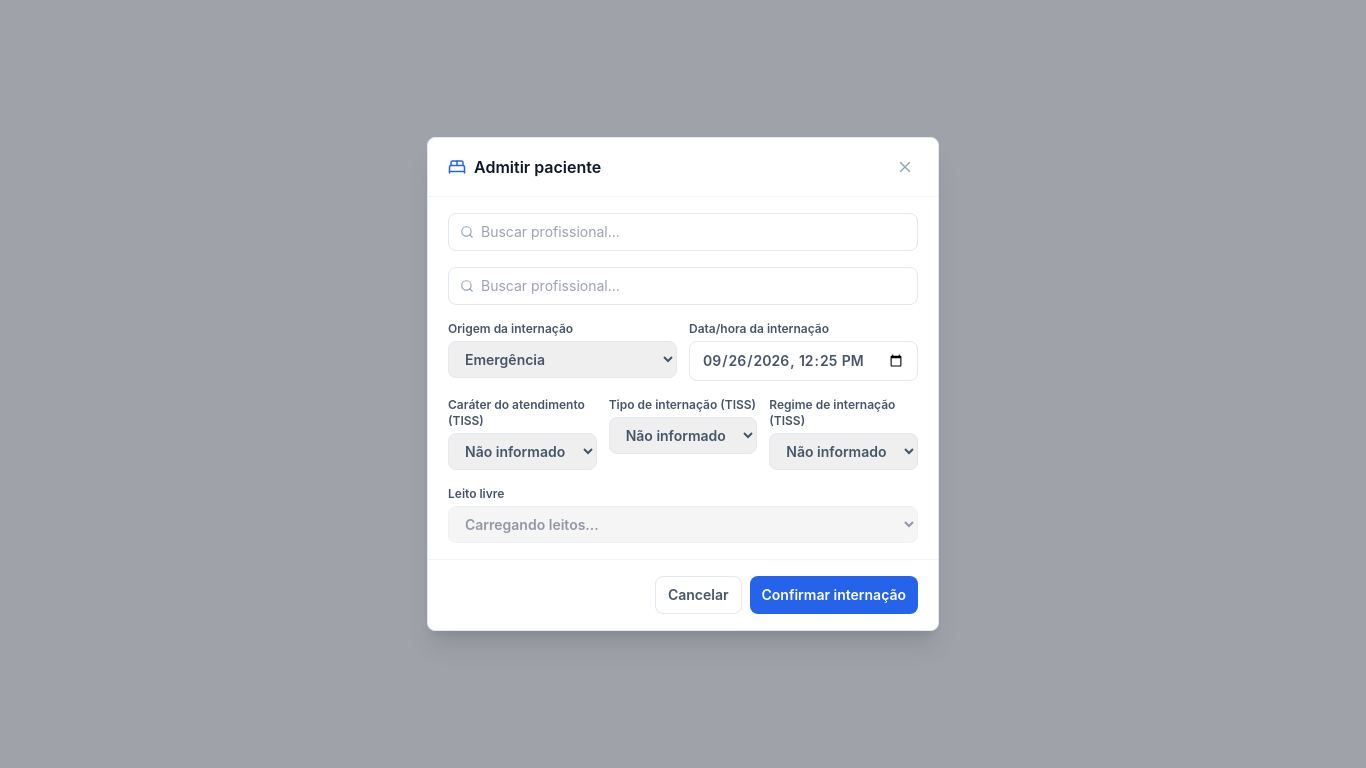
Test: AdmitPatientModal › surfaces a 409 as "leito já ocupado" and does not close
Type "dr" into the dropdown named "internador" at (683,232), box [448,213,918,251]
Wait 300 ms
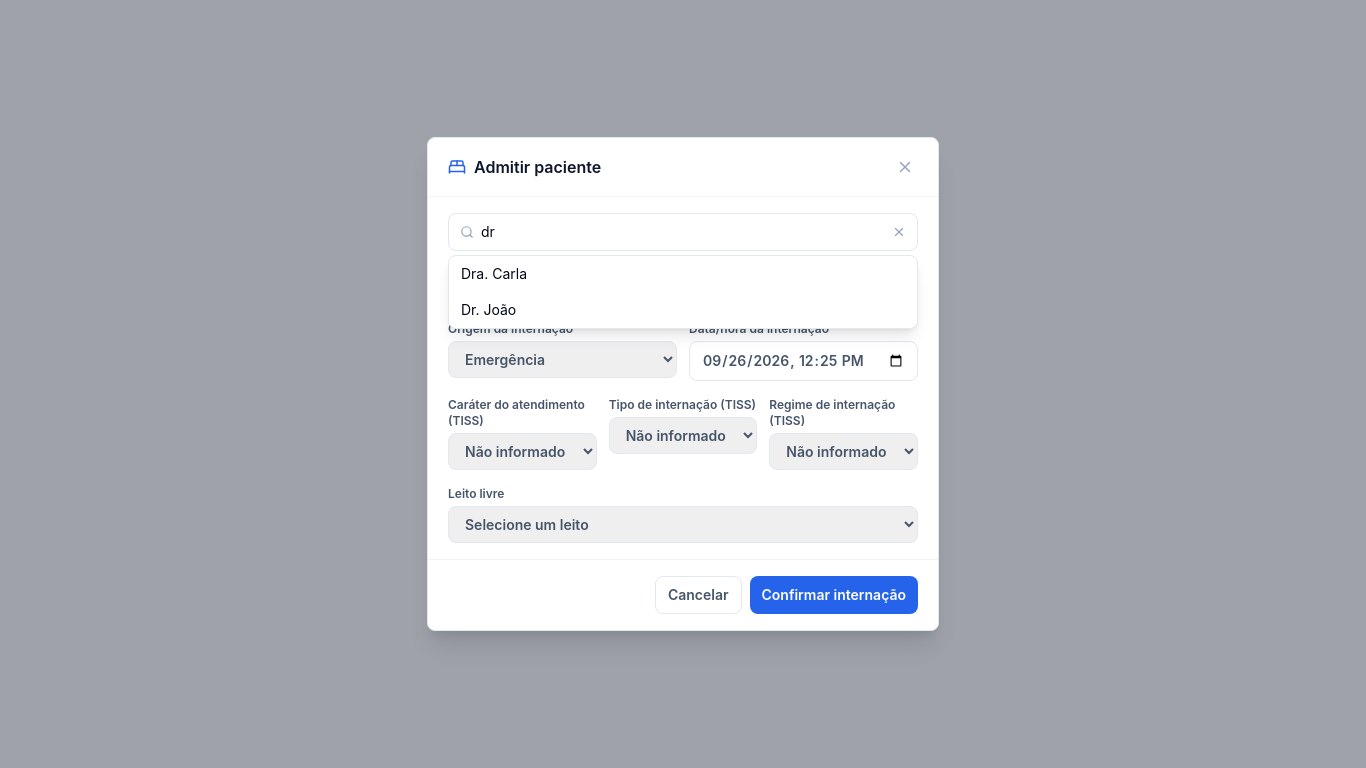
Click the option "Dra. Carla" at (494,274), box [449,256,917,292]
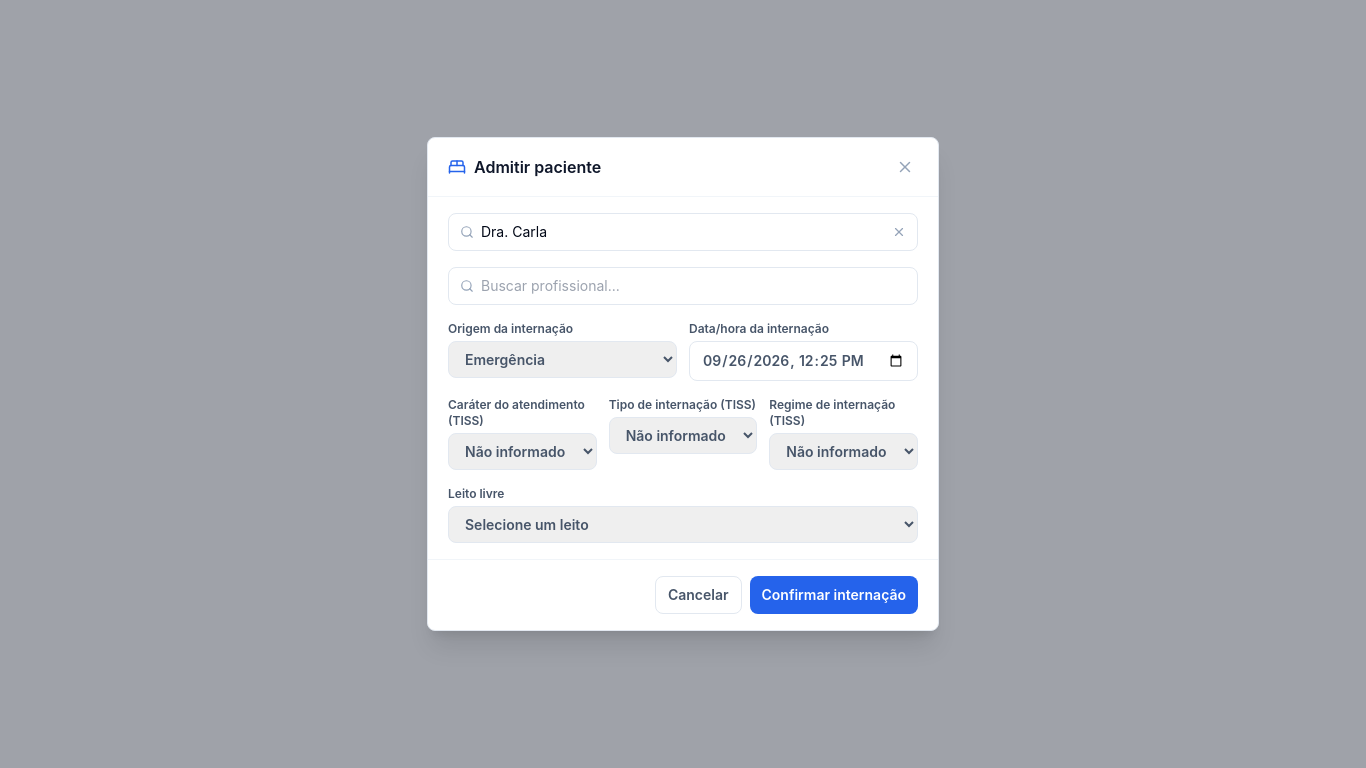
Type "dr" into the dropdown named "respons" at (683,286), box [448,267,918,305]
Wait 300 ms
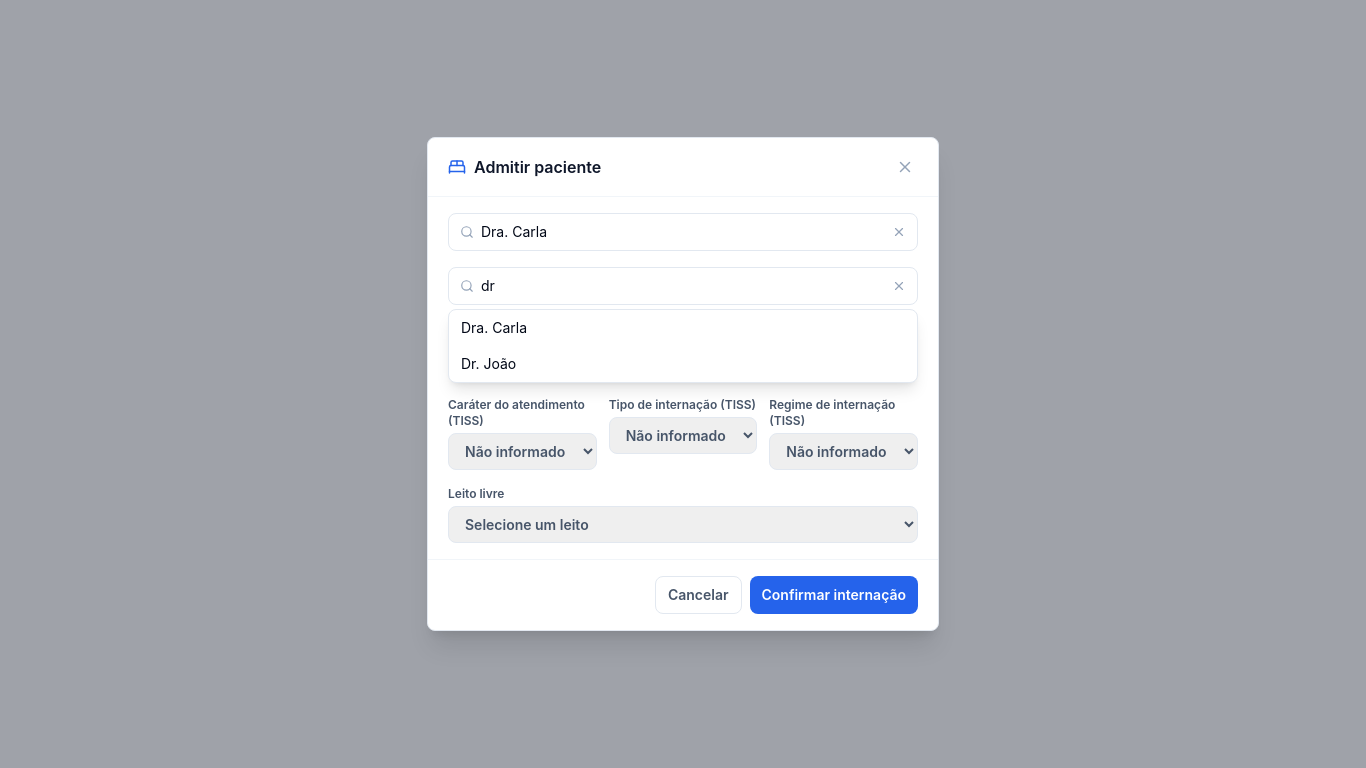
Click the option "Dr. João" at (489,364), box [449,346,917,382]
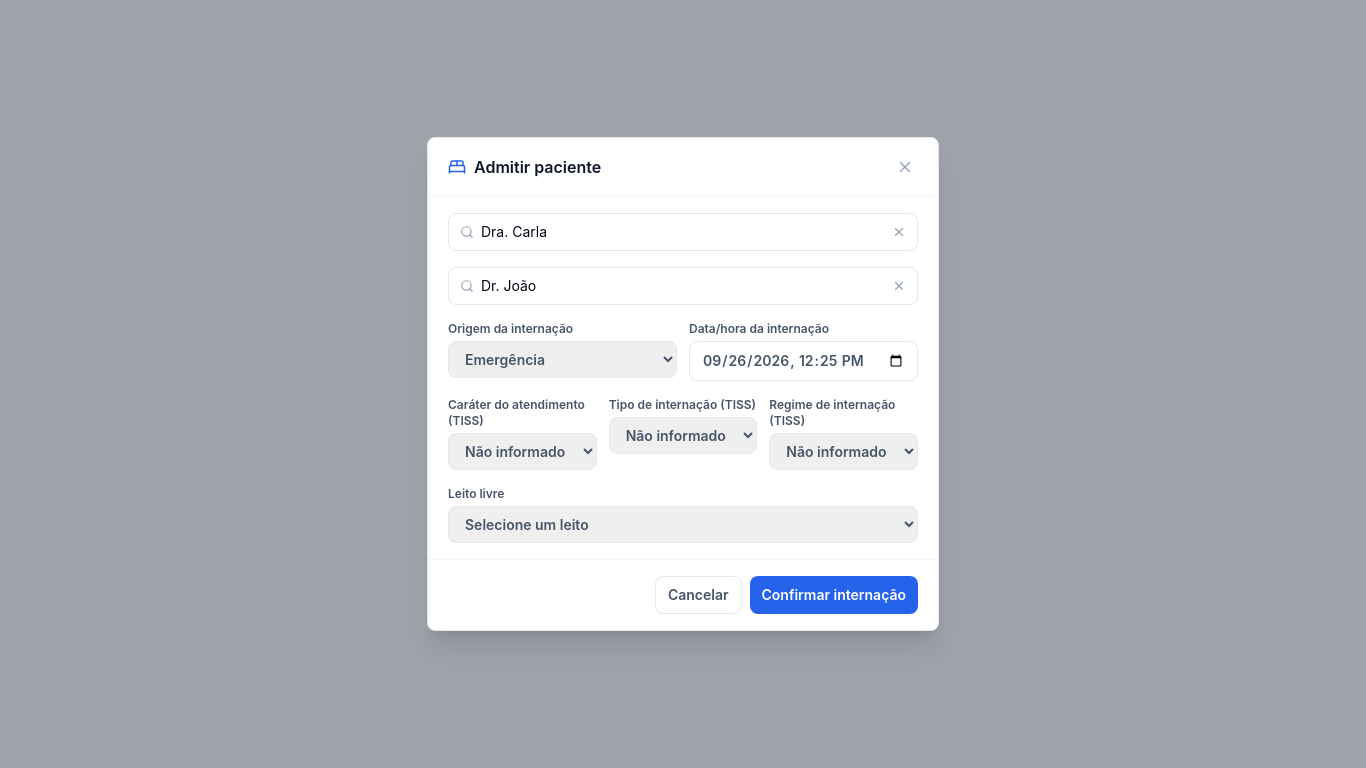
Select "L-01" in the dropdown labelled "Leito livre" at (683,524), box [448,506,918,543]
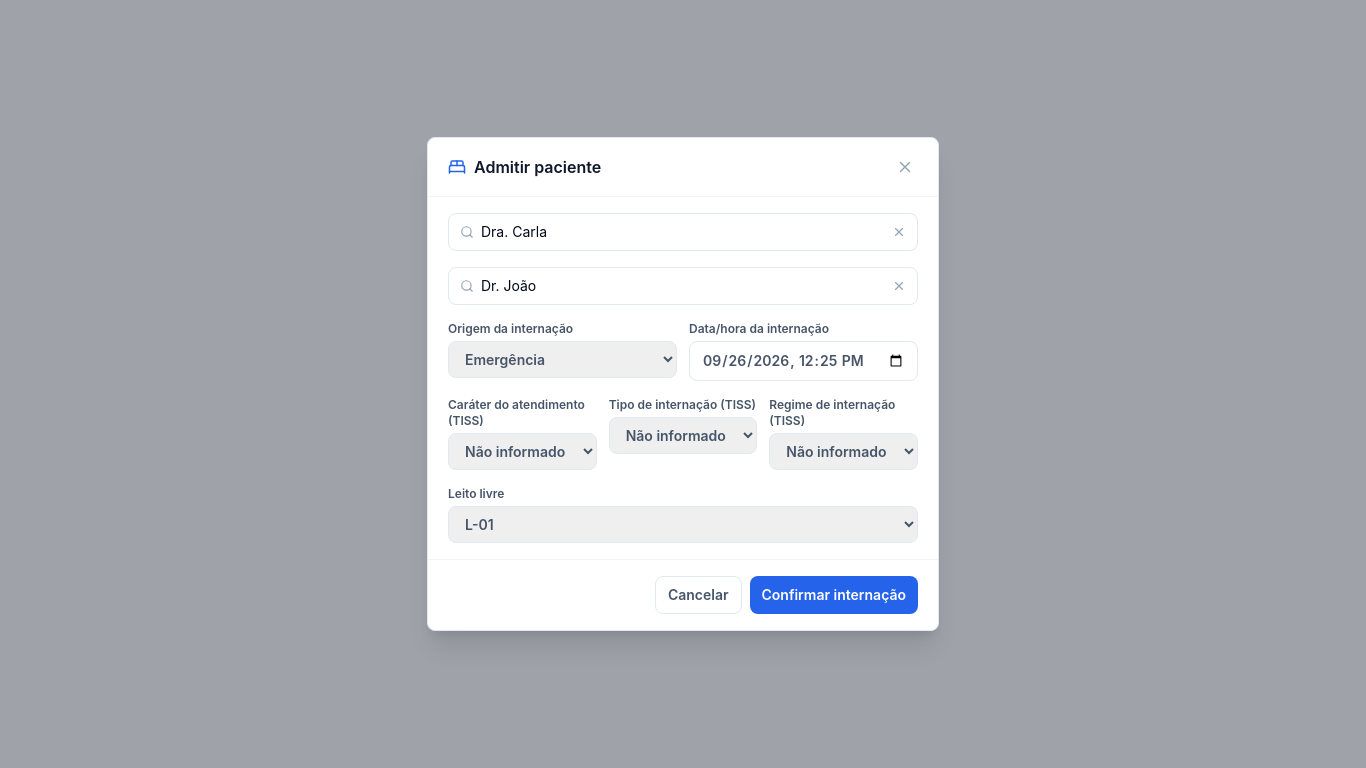
Click the button "Confirmar internação" at (834,595), box [750,576,918,614]
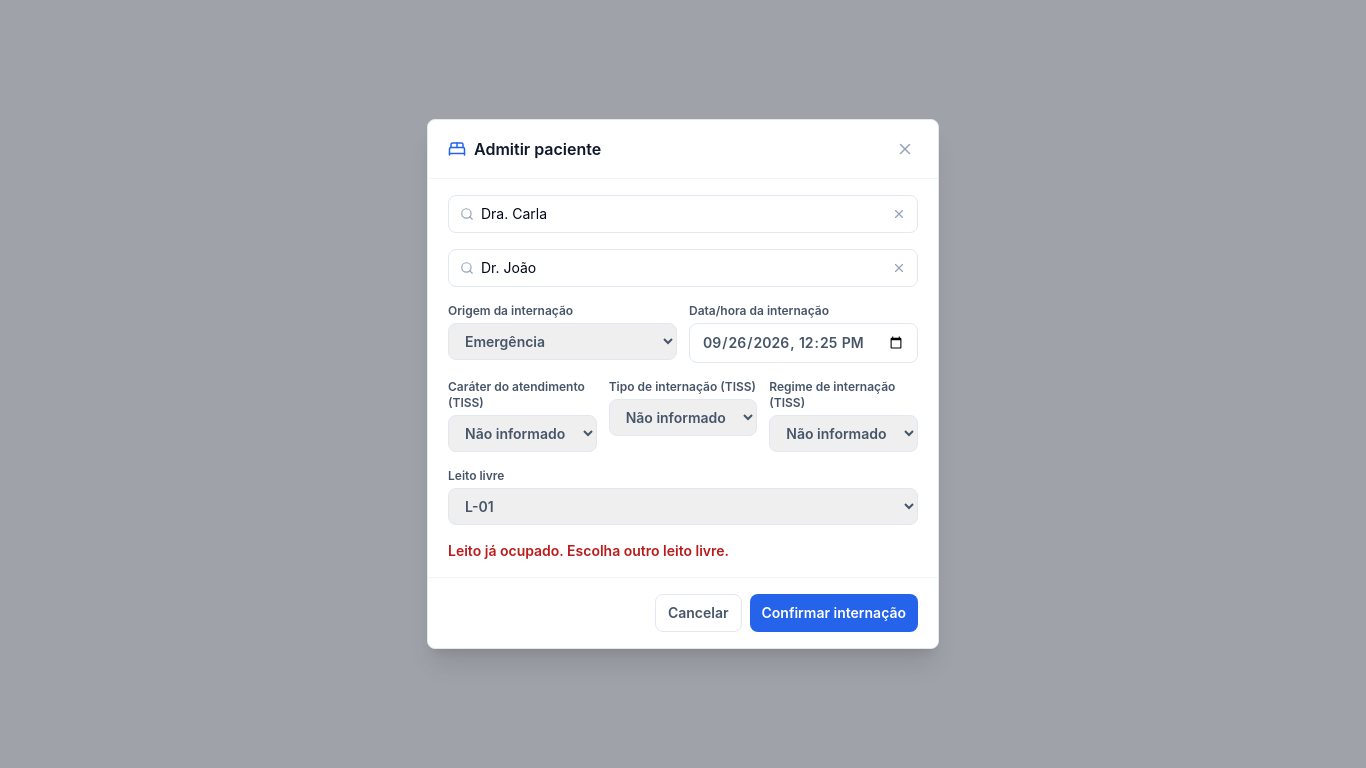
Check: the text "Leito já ocupado. Escolha outro leito livre." is shown, box [448,542,729,559]
